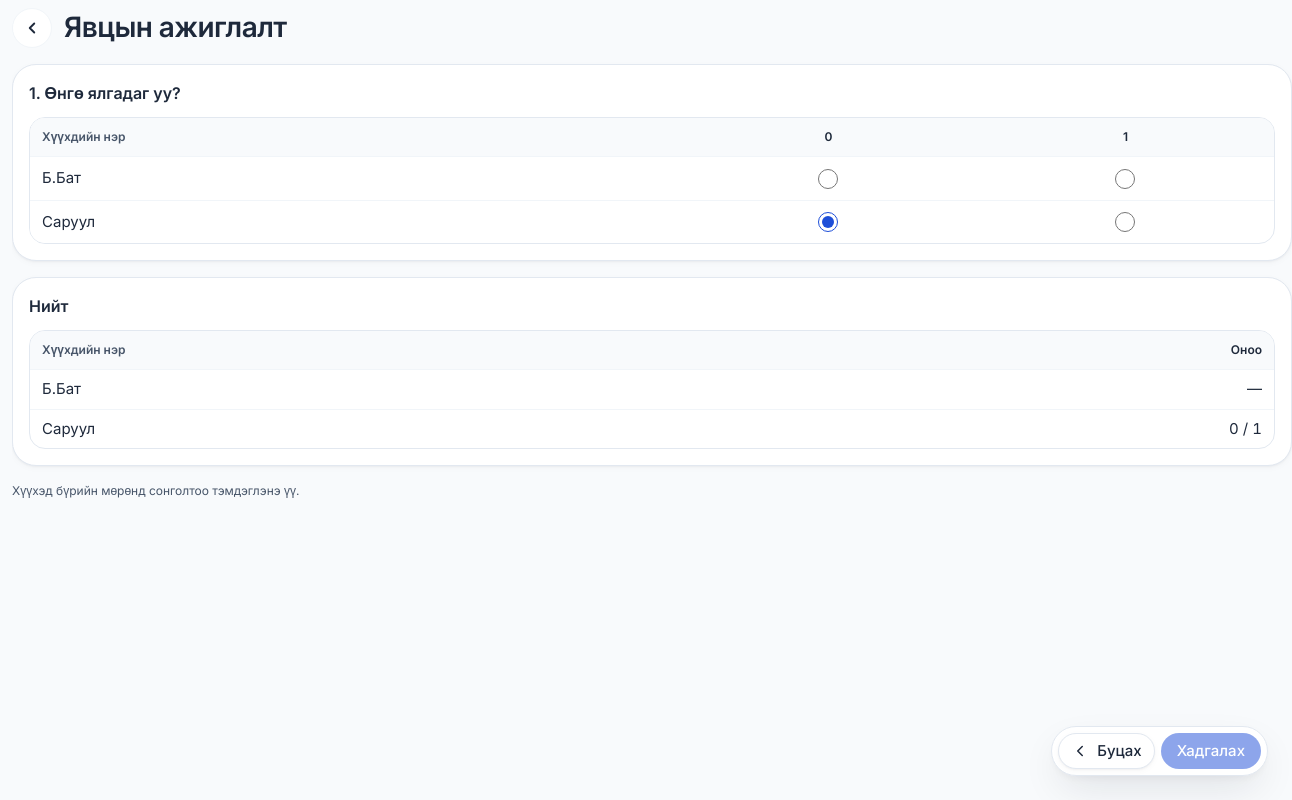
filling the whole group as one table › clears an accidental choice when the teacher presses it again
Click the radio button named "Б.Бат: 1": (1126, 179) [1116, 169, 1136, 189]
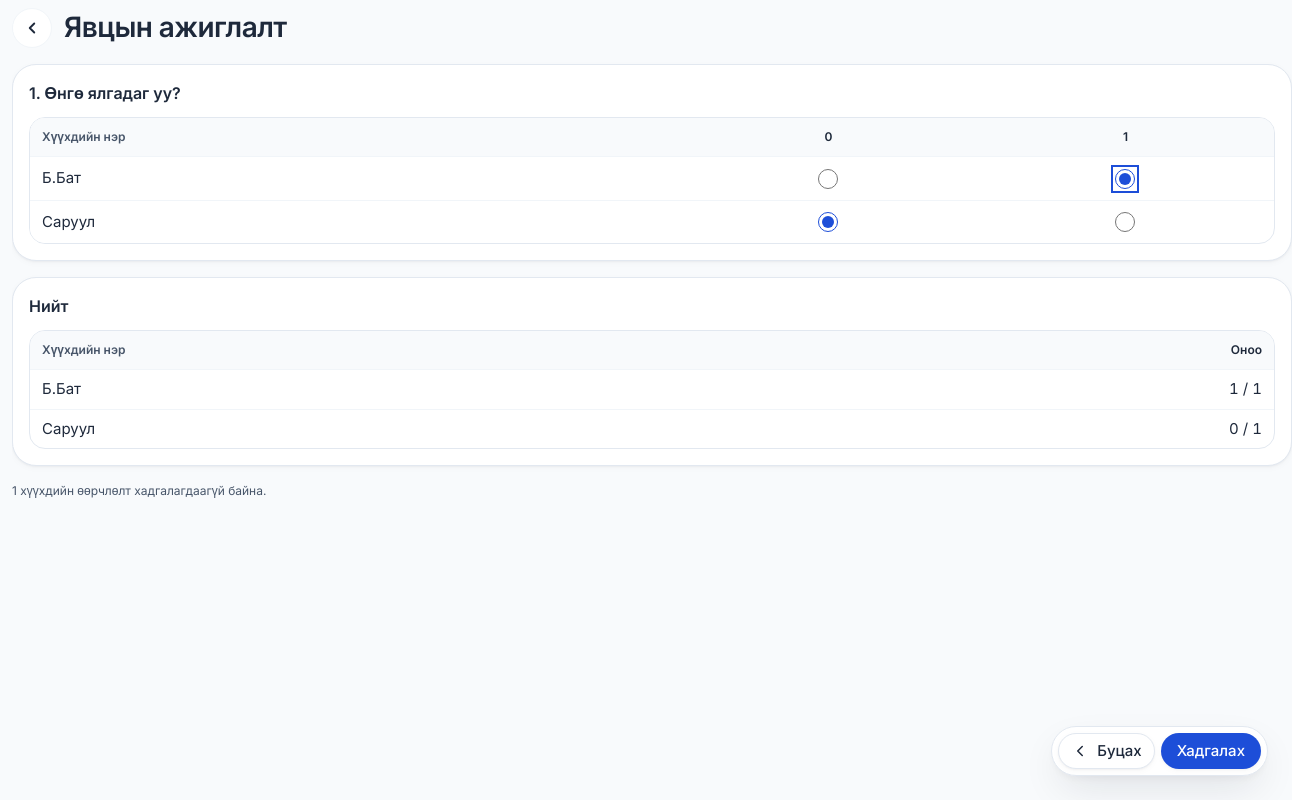
Expected: the radio button named "Б.Бат: 1" is checked
Expected: the button "Хадгалах" is enabled, [1161, 733, 1261, 769]
Click the radio button named "Б.Бат: 1": (1126, 179) [1116, 169, 1136, 189]
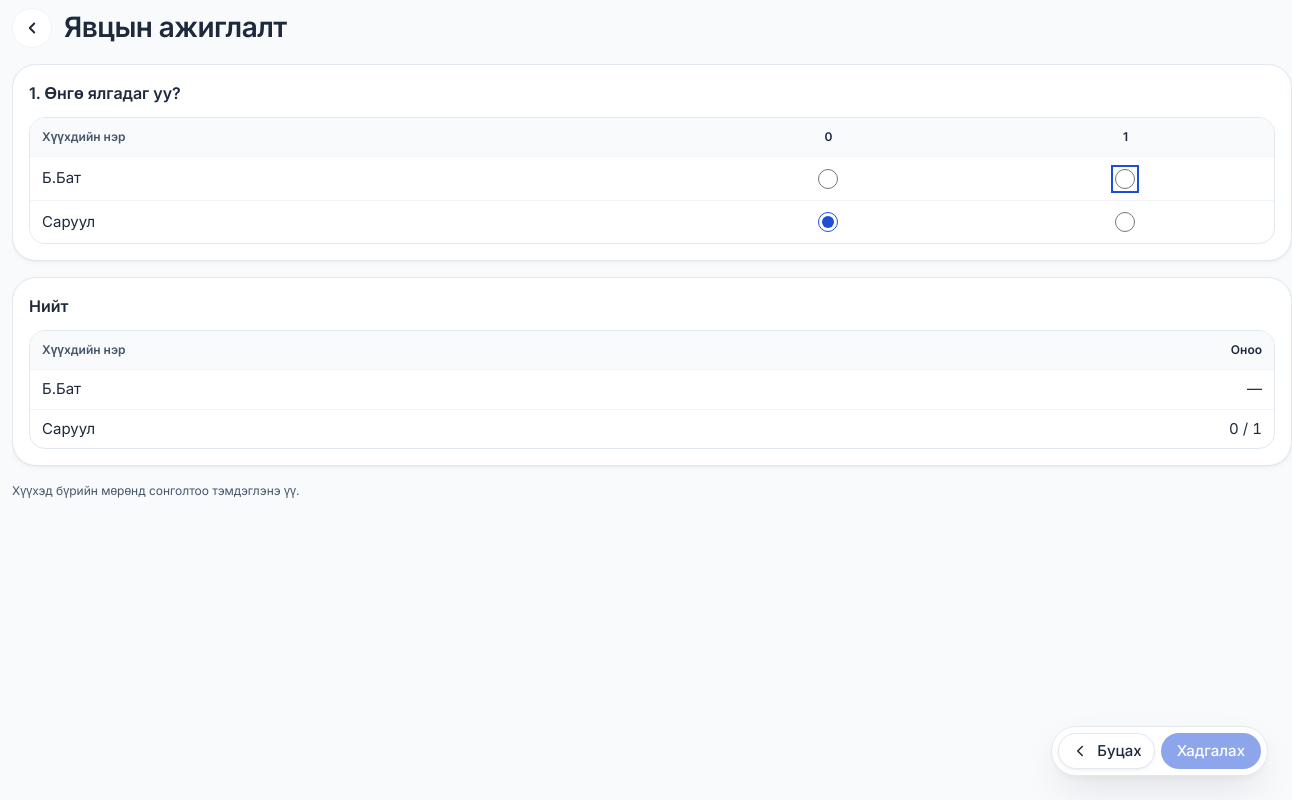
Expected: the radio button named "Б.Бат: 1" is not checked, [1116, 169, 1136, 189]
Expected: the button "Хадгалах" is disabled, [1161, 733, 1261, 769]
Expected: the text "Хүүхэд бүрийн мөрөнд сонголтоо тэмдэглэнэ үү." is shown, [12, 483, 299, 498]
